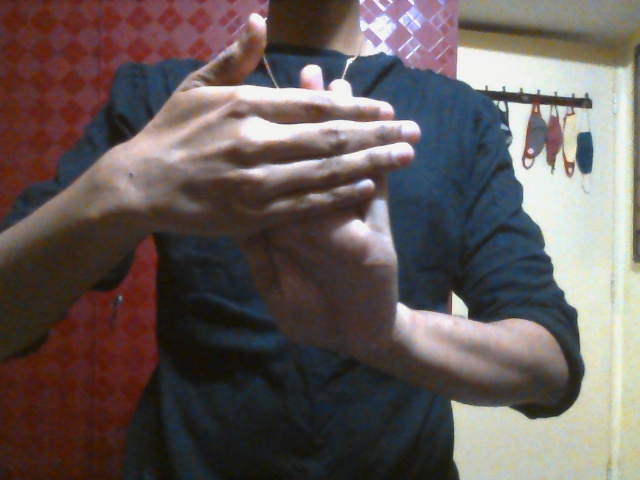H: (169, 12, 422, 351)
